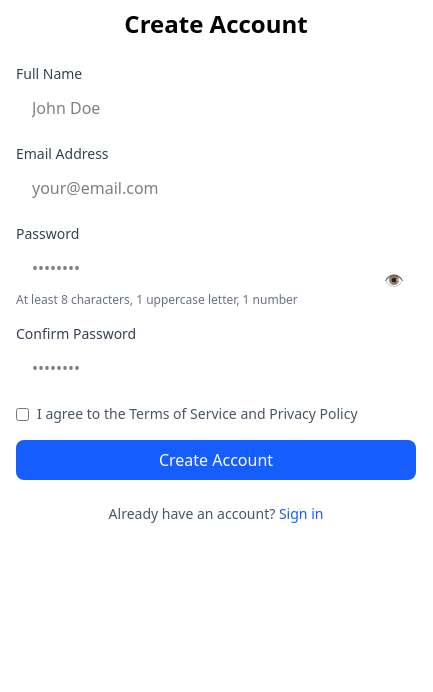
Test case: SignupForm › Full Name Validation › shows error for short full name
This screenshot has width=433, height=692.
Type "J" into the field labelled "Full Name" at (216, 108), box 16,88 -> 416,128
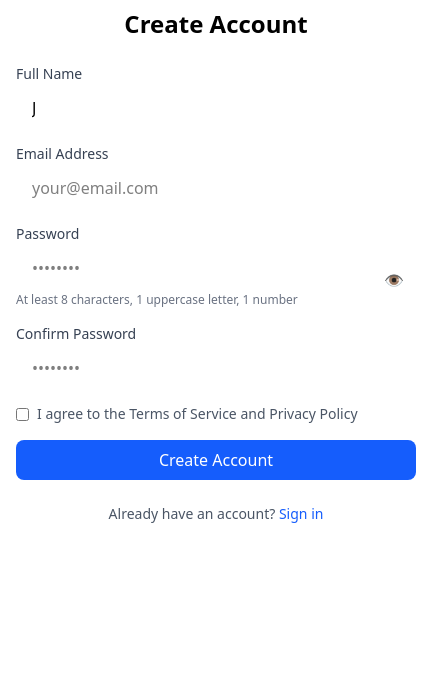
Click the button "Create Account" at (216, 460), box 16,440 -> 416,480
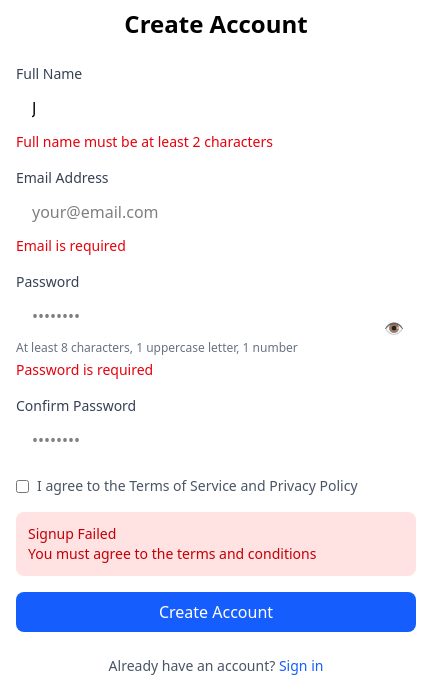
Expected: the text "Full name must be at least 2 characters" is shown, 16,132 -> 273,151
